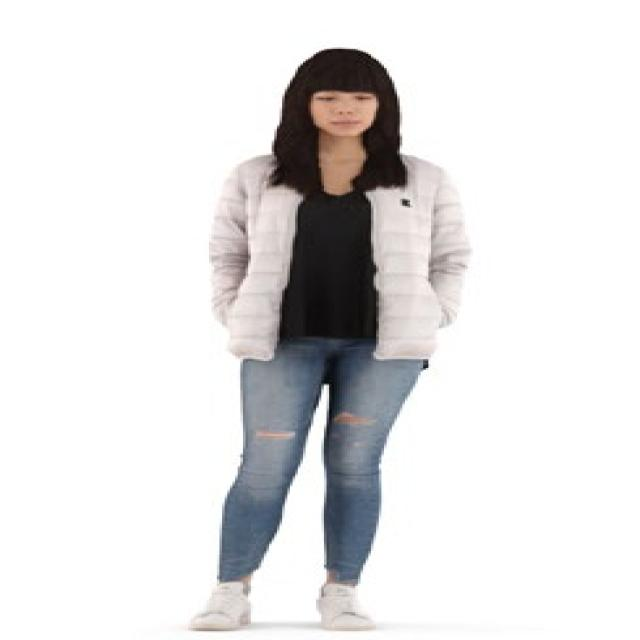standing: (183, 44, 484, 636)
